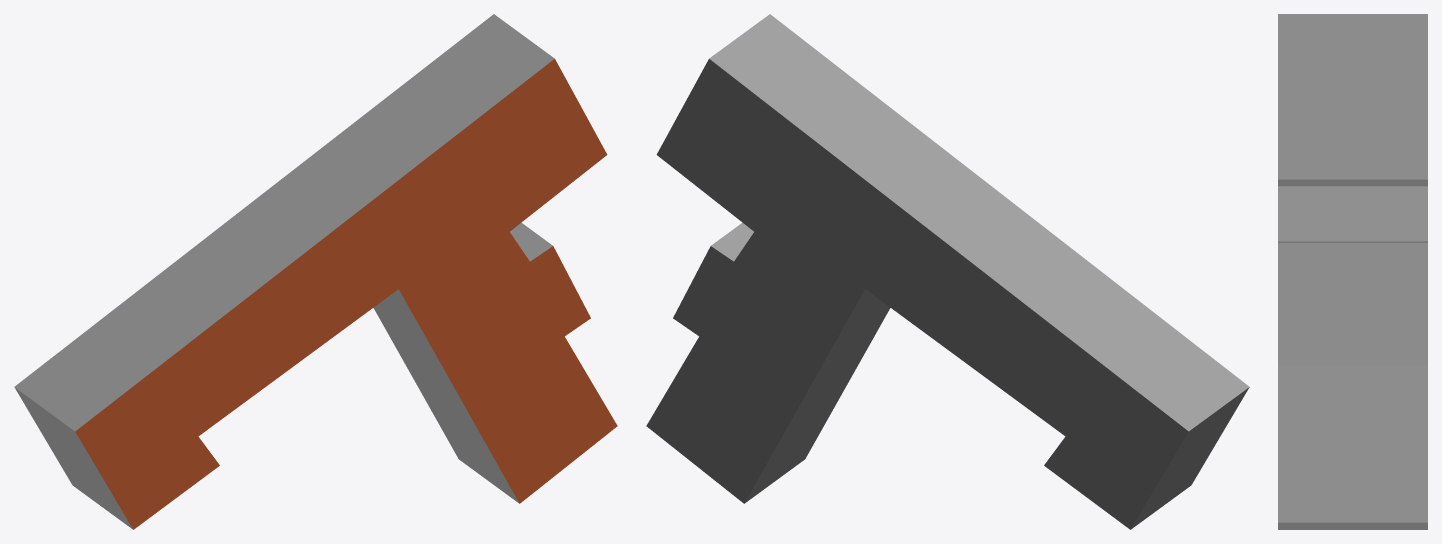
File: construction_0417_assumed_A_Casa_h6m.obj
3 renders of one model, left to right at view 1: azimuth 30°, elevation 25°; view 2: azimuth 150°, elevation 25°; view 3: azimuth 270°, elevation 25°, orthographic. The views are drawn at different scales.
Parts seen in each view (by area): view 1: construction_0417_assumed_A_Casa; view 2: construction_0417_assumed_A_Casa; view 3: construction_0417_assumed_A_Casa.
Part boxes in pixels (bbox=[...]): construction_0417_assumed_A_Casa: bbox=[14, 14, 617, 529]; construction_0417_assumed_A_Casa: bbox=[646, 14, 1249, 529]; construction_0417_assumed_A_Casa: bbox=[1278, 14, 1427, 529].
Bounding box in the file's own units: 30.83 × 23.72 × 6.
